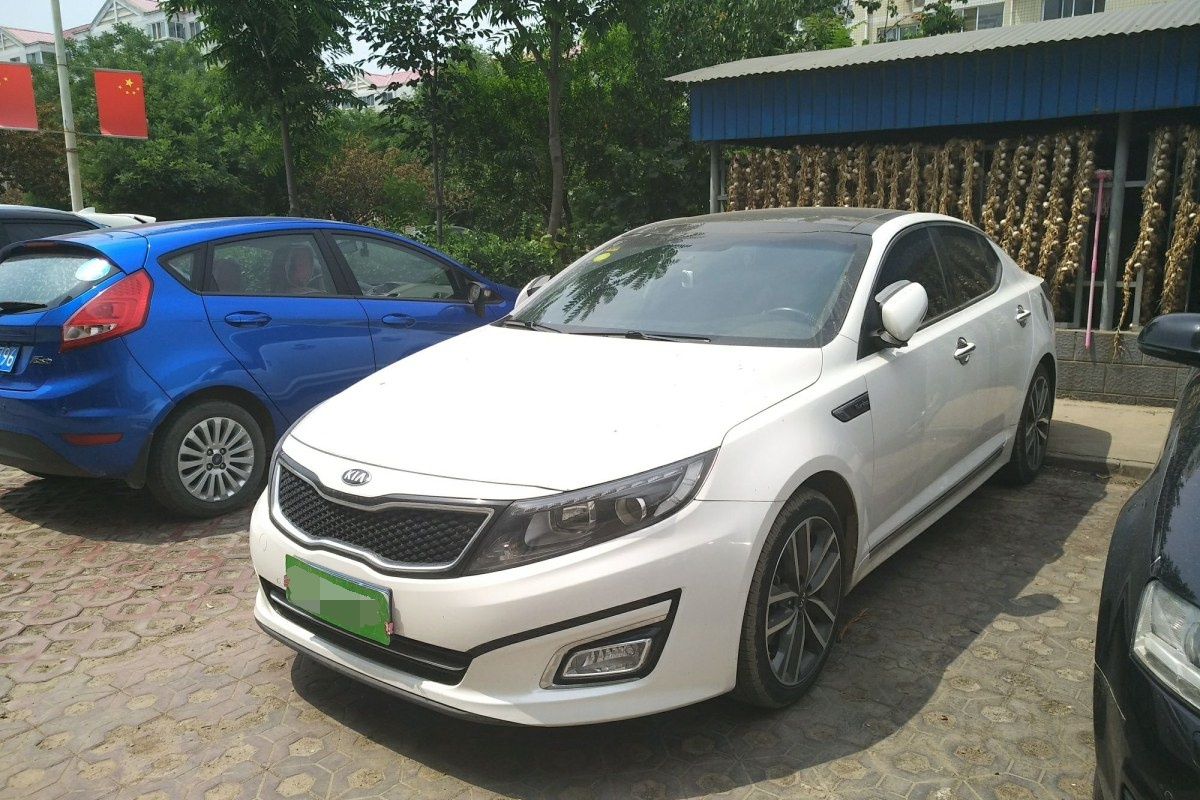family sedan: (254, 187, 1092, 718)
